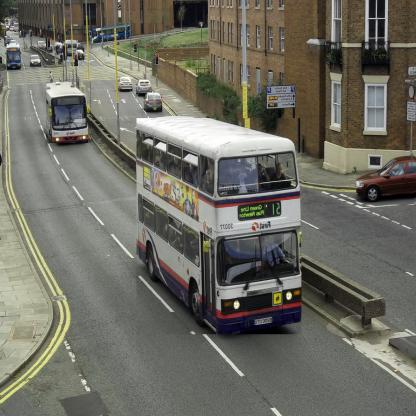bus: (137, 119, 303, 336), (47, 83, 92, 144), (7, 45, 22, 72)
car: (357, 155, 415, 207), (145, 93, 163, 113), (137, 80, 153, 94), (68, 40, 78, 57), (120, 78, 133, 90), (31, 55, 43, 68), (76, 51, 86, 62), (39, 41, 46, 49)
